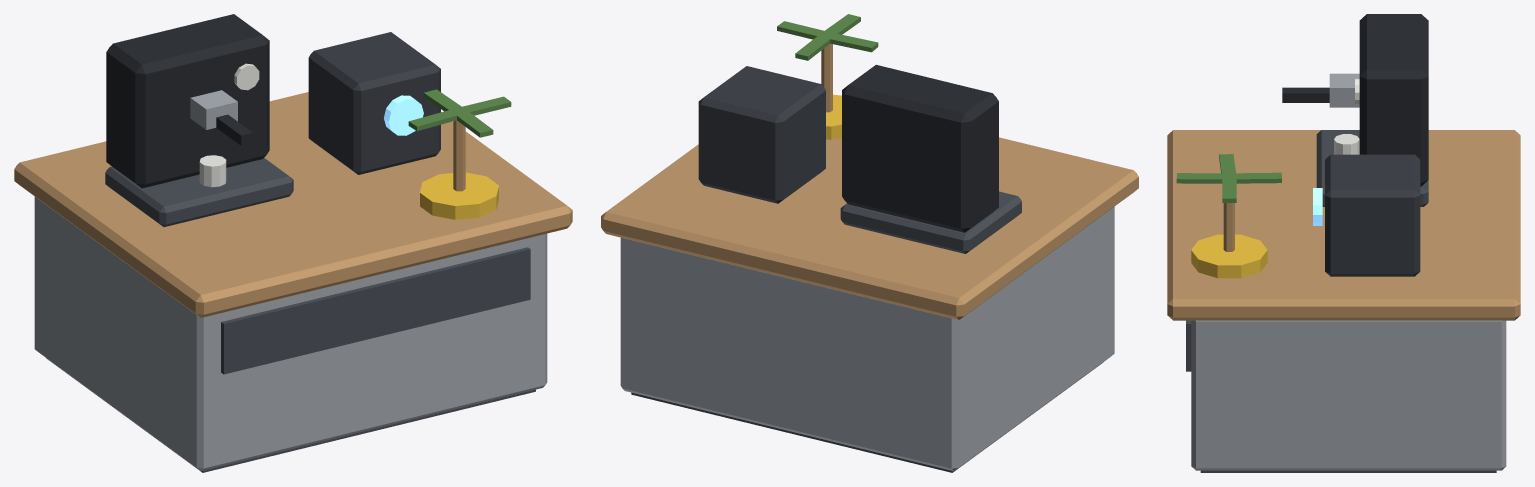
File: coffee_p1_4.glb
3 renders of one model, left to right at view 1: azimuth 30°, elevation 25°; view 2: azimuth 150°, elevation 25°; view 3: azimuth 270°, elevation 25°, orthographic. The views are drawn at different scales.
Visible parts, largest first — view 1: coffee_p1_4_mesh_Desk, coffee_p1_4_mesh; view 2: coffee_p1_4_mesh_Desk, coffee_p1_4_mesh; view 3: coffee_p1_4_mesh_Desk, coffee_p1_4_mesh.
Part boxes in pixels (x1,y1,x2,y2): coffee_p1_4_mesh_Desk: (14, 92, 572, 472); coffee_p1_4_mesh: (105, 14, 511, 226); coffee_p1_4_mesh_Desk: (601, 137, 1138, 472); coffee_p1_4_mesh: (698, 14, 1021, 253); coffee_p1_4_mesh_Desk: (1167, 130, 1520, 472); coffee_p1_4_mesh: (1176, 14, 1428, 278).
Bounding box in the file's own units: 0.86 × 0.735 × 0.74.
